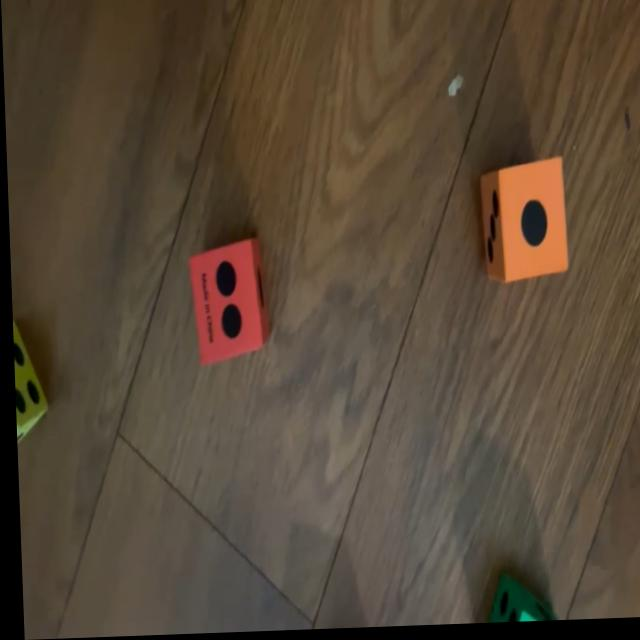cube: (184, 237, 268, 365), (482, 581, 544, 626)
